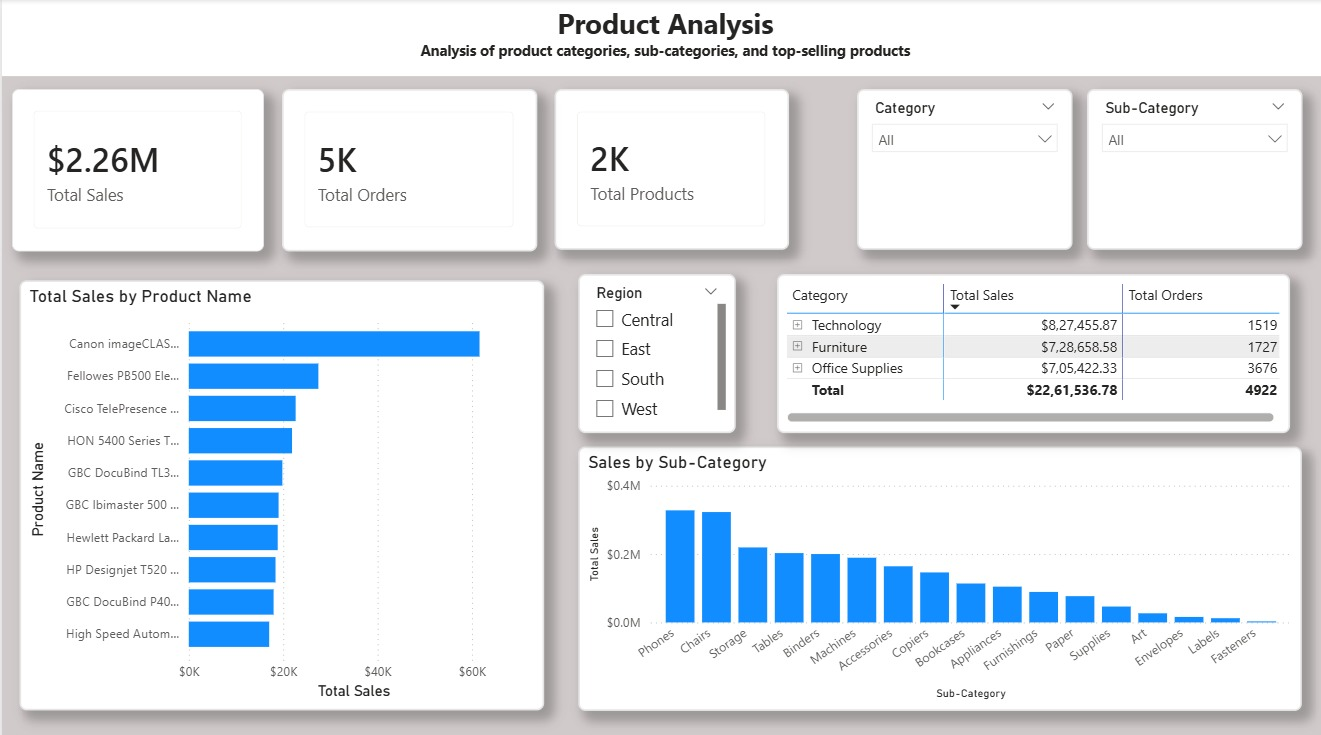

Layout of this report page (visuals, bound fields, positions):
{"tool":"powerbi","page":{"name":"Product Analysis","canvas":[1280,720],"ordinal":1},"visuals":[{"type":"textbox","box":[0,0,1280.3,74.7],"z":0},{"type":"cardVisual","title":"Total Sales","fields":{"Data":["Orders.Total Sales"]},"box":[10,86.7,243.3,156.7],"z":1000},{"type":"cardVisual","fields":{"Data":["Orders.Total Products"]},"box":[533.3,86.7,226.7,155],"z":2000},{"type":"cardVisual","fields":{"Data":["Orders.Total Orders"]},"box":[270,86.7,246.7,156.7],"z":3000},{"type":"clusteredBarChart","fields":{"Category":["Orders.Product Name"],"Y":["Orders.Total Sales"]},"box":[16.7,271.7,506.7,415],"z":4000},{"type":"columnChart","title":"Sales by Sub-Category","fields":{"Category":["Orders.Sub-Category"],"Y":["Orders.Total Sales"]},"box":[556.7,431.7,698.3,255],"z":5000},{"type":"pivotTable","fields":{"Rows":["Orders.Category","Orders.Sub-Category"],"Values":["Orders.Total Sales","Orders.Total Orders"]},"box":[748.3,265,495,153.3],"z":6000},{"type":"slicer","fields":{"Values":["Orders.Region"]},"box":[556.7,265,151.7,153.3],"z":7000},{"type":"slicer","fields":{"Values":["Orders.Category"]},"box":[825,86.7,208.3,155],"z":8000},{"type":"slicer","fields":{"Values":["Orders.Sub-Category"]},"box":[1046.7,86.7,208.3,155],"z":9000}]}

Visuals, with their boxes in screenshot pixels (x1, y1, x2, y2), scaled from the page's 1280x720 canvas onto the 1321x735 screenshot:
textbox: 0:0:1320:76
"Total Sales" cardVisual: 10:89:261:248
cardVisual - Orders.Total Products: 550:89:784:247
cardVisual - Orders.Total Orders: 279:89:533:248
clusteredBarChart - Orders.Product Name x Orders.Total Sales: 17:277:540:701
"Sales by Sub-Category" columnChart: 575:441:1295:701
pivotTable - Orders.Category x Orders.Sub-Category: 772:271:1283:427
slicer - Orders.Region: 575:271:731:427
slicer - Orders.Category: 851:89:1066:247
slicer - Orders.Sub-Category: 1080:89:1295:247
